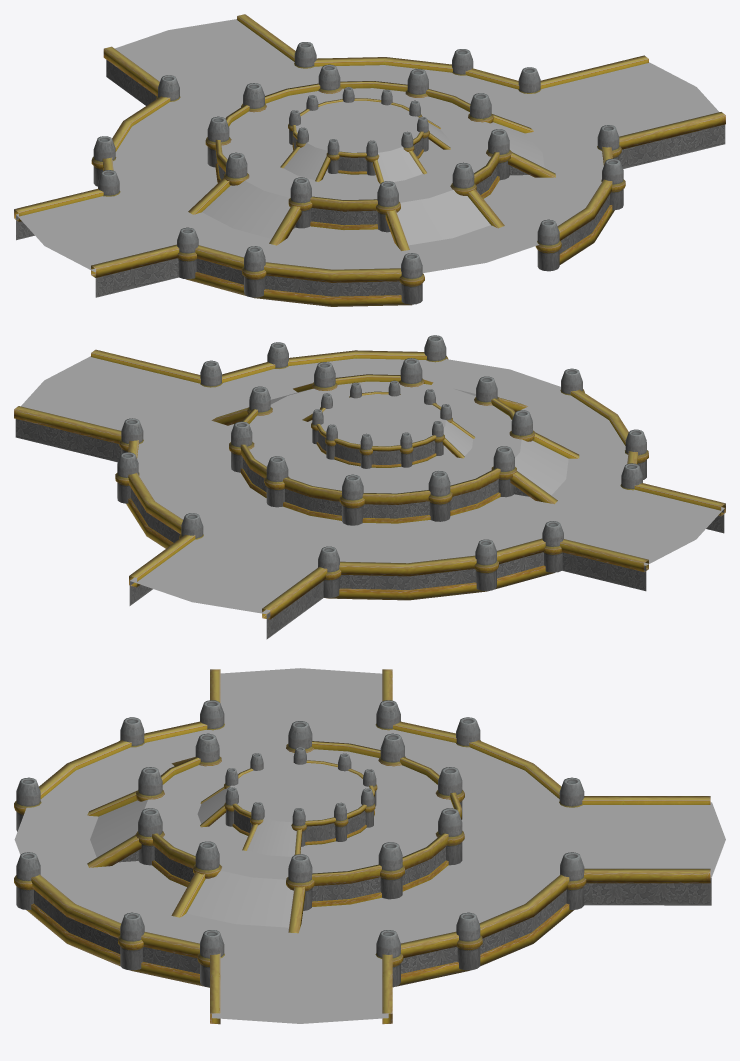
The model's file is sanctuaire_complet.fbx.
3 views of the same model, one above another, from view 1: azimuth 30°, elevation 25°; view 2: azimuth 150°, elevation 25°; view 3: azimuth 270°, elevation 25° (orthographic). The views are drawn at different scales.
Parts seen in each view (by area): view 1: group10; view 2: group10; view 3: group10.
Boxes of the visible parts, x1=… form: group10: x1=14, y1=14, x2=725, y2=306; group10: x1=14, y1=335, x2=725, y2=639; group10: x1=14, y1=668, x2=725, y2=1024.
Size of the model in its own units: 4493 by 546 by 3798.
2 materials, 1 textured.
